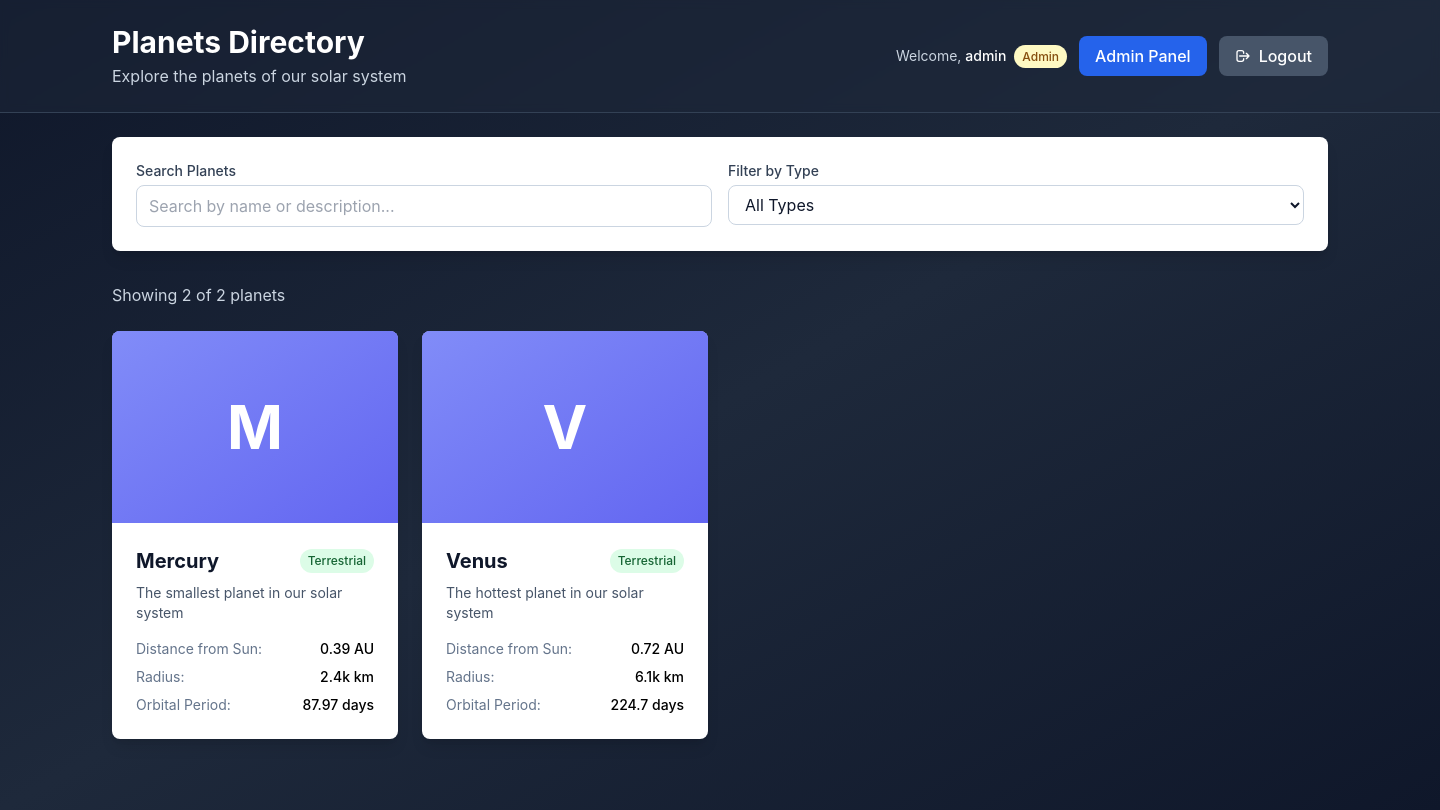
Test: Planets Component › filters planets by search term
This screenshot has width=1440, height=810.
expect the heading "Mercury" is shown: met, box [136,547,219,575]
Type "Mercury" into the field with placeholder "Search by name or description..." at [424, 206], box [136,185,712,227]
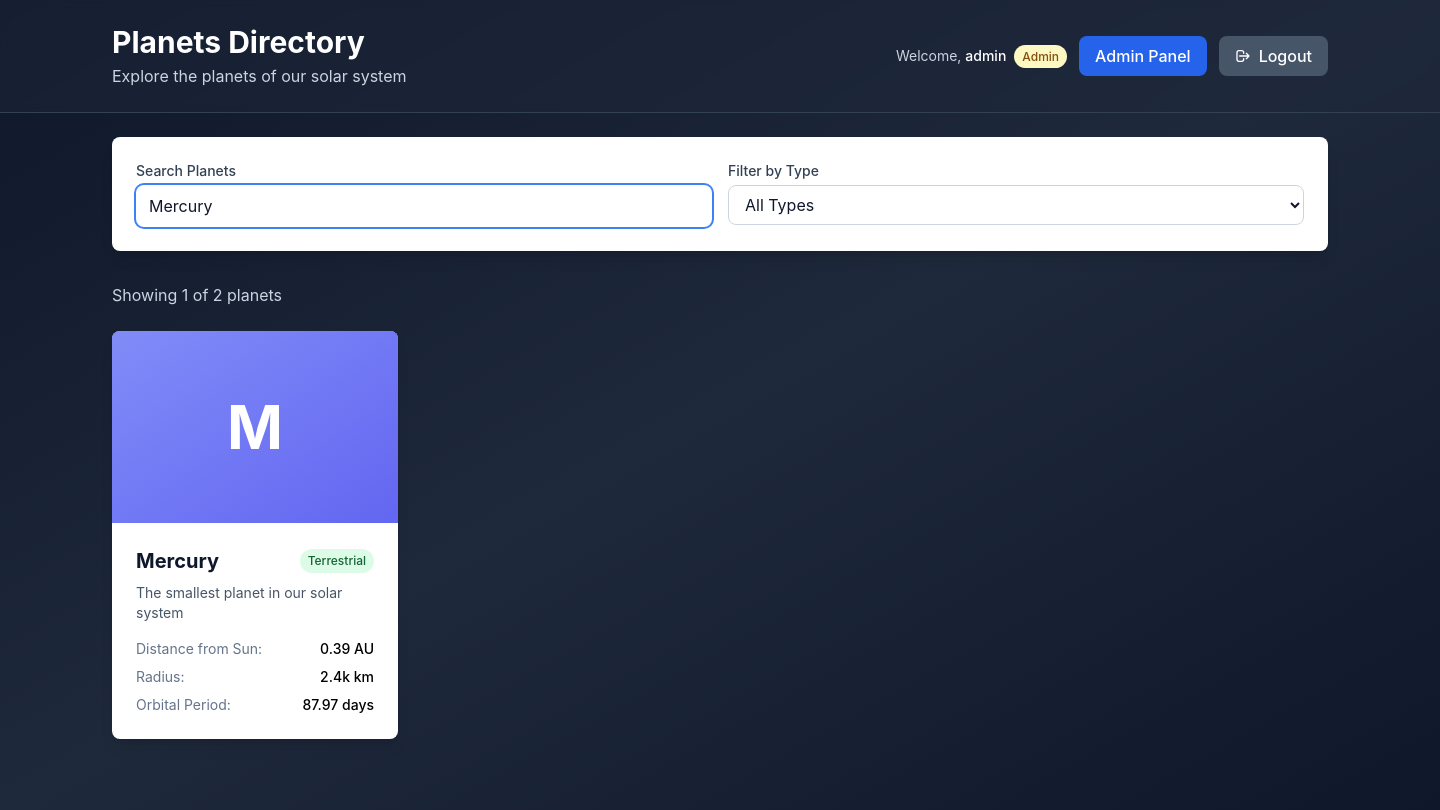
expect the heading "Mercury" is shown: met, box [136,547,219,575]
expect the link "Venus" is gone: met
